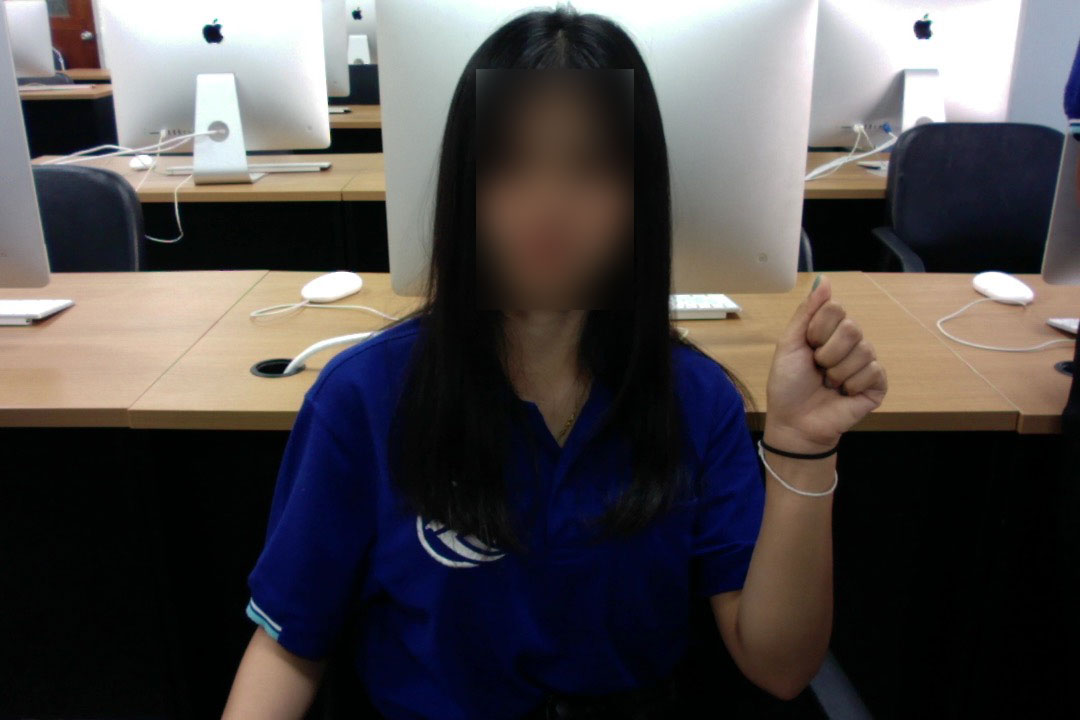or: (755, 267, 897, 458)
